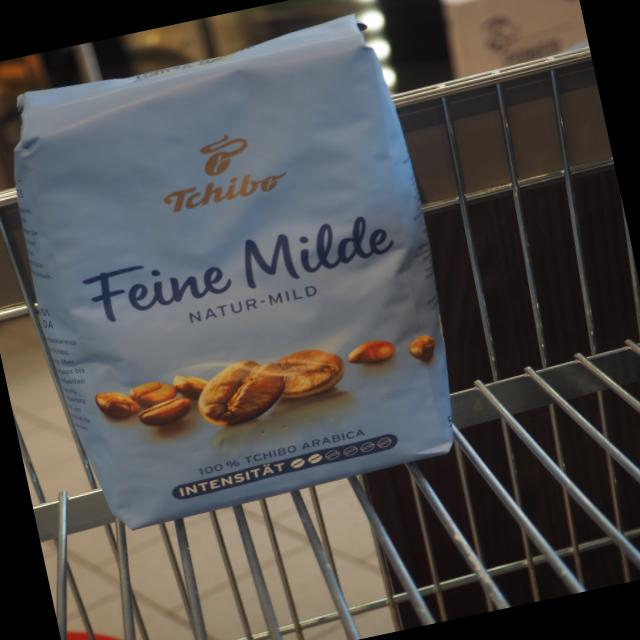FM Bohne: (0, 2, 480, 544)
